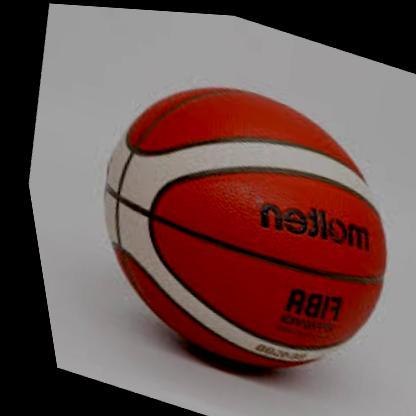basketball: (46, 45, 416, 402)
